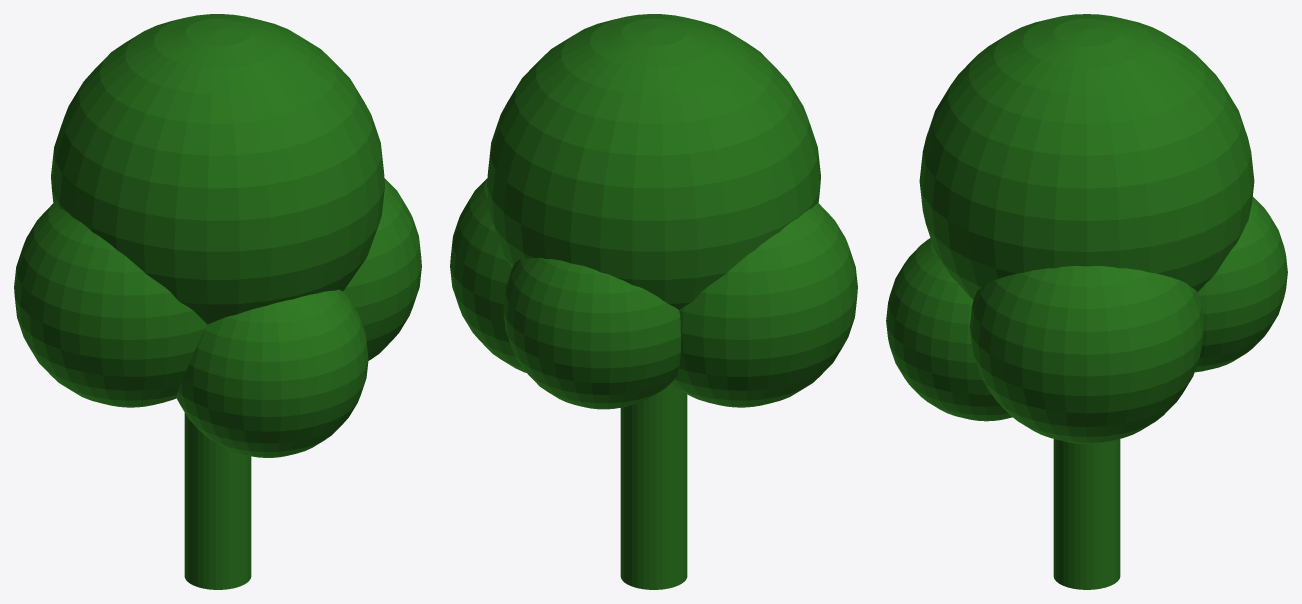
The model's file is plant_figure.glb.
3 views of the same model, side by side, from view 1: azimuth 30°, elevation 25°; view 2: azimuth 150°, elevation 25°; view 3: azimuth 270°, elevation 25° (orthographic).
Parts seen in each view (by area): view 1: Kugel.004; view 2: Kugel.004; view 3: Kugel.004.
Boxes of the visible parts, x1,y1,x2,y2 form: Kugel.004: [14, 14, 421, 589]; Kugel.004: [450, 14, 857, 589]; Kugel.004: [886, 14, 1287, 589].
Bounding box in the file's own units: 1.3 × 1.8 × 1.2.
